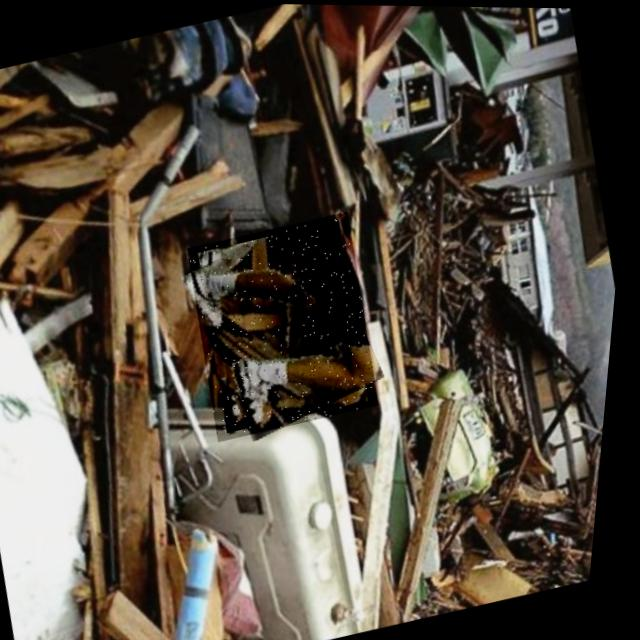Person in Rubble: (177, 208, 398, 443)
